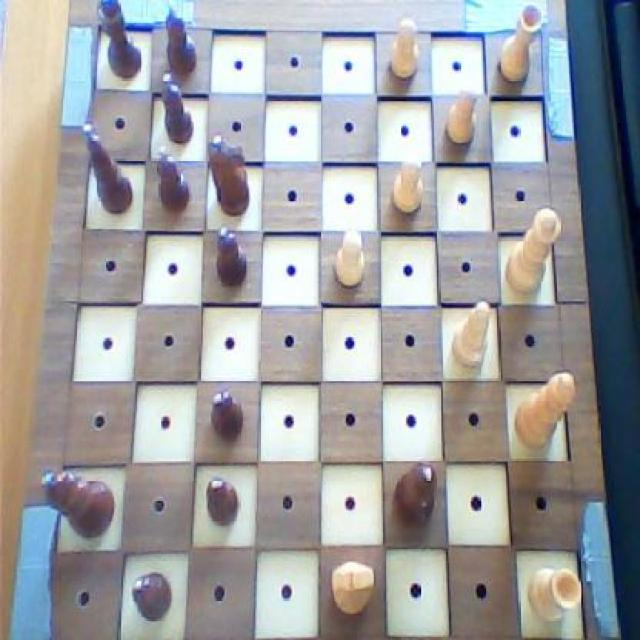bishop: (81, 118, 136, 215)
black-bishop: (38, 463, 118, 542)
black-king: (205, 128, 258, 218), (204, 131, 256, 219)
black-knight: (160, 0, 199, 76), (152, 143, 192, 215), (159, 68, 196, 144), (212, 223, 250, 289), (208, 384, 246, 448), (130, 571, 176, 622), (202, 474, 240, 529)
black-pawn: (391, 458, 438, 537)
black-queen: (90, 0, 144, 85)
black-rook: (450, 296, 492, 372)
white-bishop: (512, 368, 577, 452)
white-king: (323, 556, 380, 620)
white-knight: (386, 12, 425, 83), (442, 83, 481, 148), (390, 149, 426, 217), (331, 223, 366, 292)
white-pawn: (503, 206, 565, 299)
white-queen: (494, 2, 544, 90), (524, 562, 584, 629)
